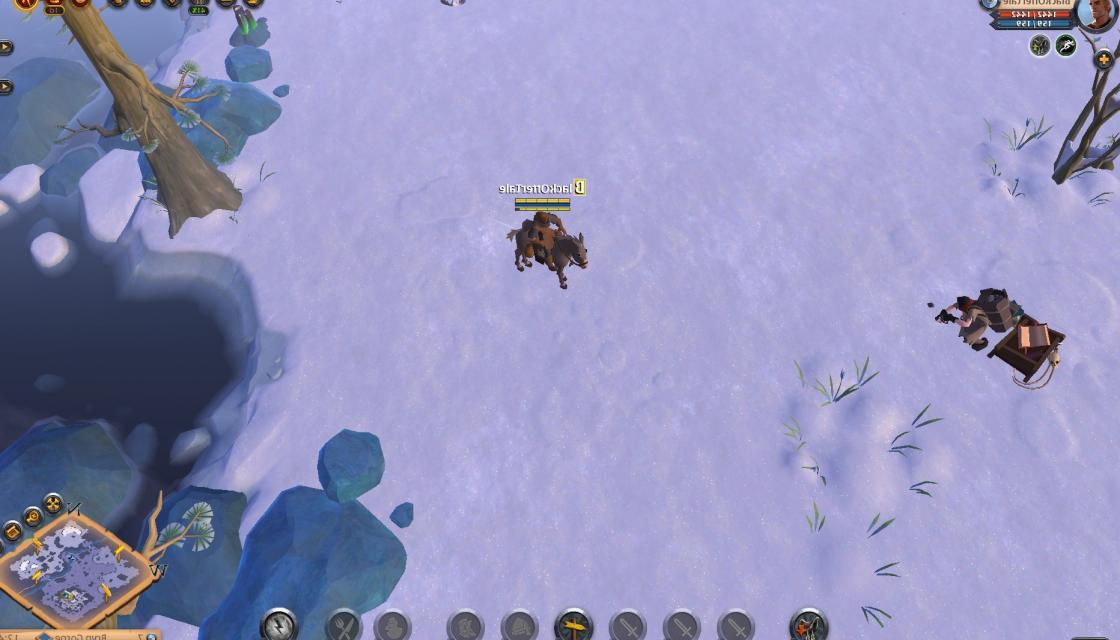tinore: (217, 6, 277, 49)
